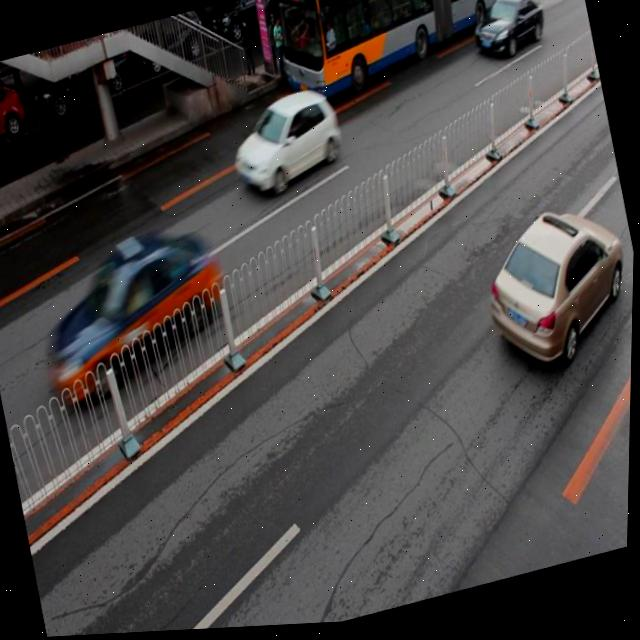car: (39, 221, 237, 408), (472, 198, 636, 377), (221, 84, 348, 205), (27, 38, 138, 126), (128, 9, 211, 79), (466, 0, 549, 69), (208, 0, 288, 48), (0, 77, 35, 162)
van: (267, 0, 522, 103)
